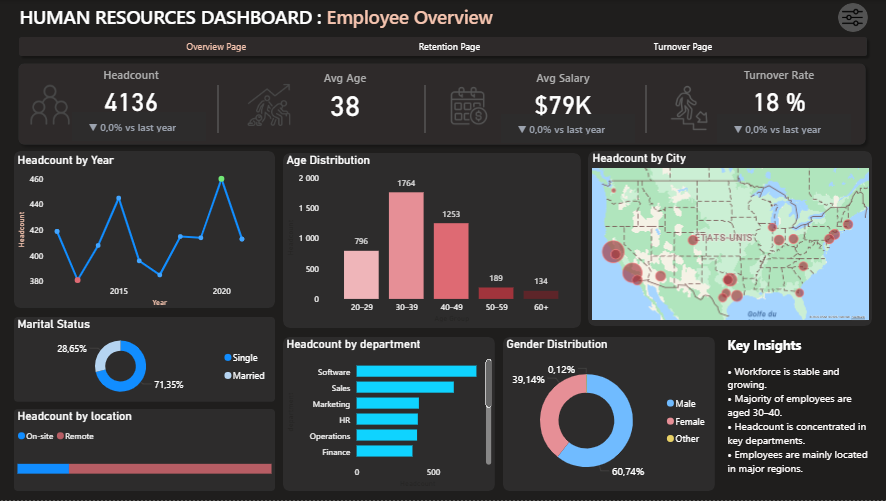

What the dashboard file says about the page in this screenshot:
{"tool":"powerbi","page":{"name":"Overview Page","canvas":[1280,720],"ordinal":0},"visuals":[{"type":"shape","box":[407.5,485.3,305.3,221.8],"z":0},{"type":"shape","box":[20.8,46.1,1235.3,41.7],"z":1000},{"type":"textbox","box":[23,0,731.5,47.5],"z":2000},{"type":"shape","box":[17.3,82.1,1238.4,135.4],"z":3000},{"type":"shape","box":[846.7,217.4,409,252],"z":4000},{"type":"azureMap","title":"Headcount by City","fields":{"Category":["LocationDim.location_city"],"Size":["_Mesures.Headcount"]},"box":[848.2,217.4,407.5,249.1],"z":5000},{"type":"clusteredBarChart","fields":{"Category":["DepartmentDim.department","JobLevelDim.job_level"],"Y":["_Mesures.Headcount"]},"box":[407.5,485.3,305.3,221.8],"z":6000},{"type":"shape","box":[20.2,217.4,375.8,226.1],"z":7000},{"type":"shape","box":[407.5,220.3,429.1,252],"z":8000},{"type":"shape","box":[20.2,456.5,375.8,122.4],"z":9000},{"type":"shape","box":[724.3,485.3,305.3,221.8],"z":10000},{"type":"lineChart","fields":{"Y":["_Mesures.Headcount"],"Category":["Dates.Year"]},"box":[20.2,220.3,375.8,226.1],"z":11000},{"type":"clusteredColumnChart","title":"Age Distribution","fields":{"Y":["_Mesures.Headcount"],"Category":["DemographicDim.Age Group"]},"box":[407.5,220.3,429.1,249.1],"z":12000},{"type":"shape","box":[20.2,589,375.8,118.1],"z":13000},{"type":"donutChart","title":"Gender Distribution","fields":{"Y":["_Mesures.Headcount"],"Category":["DemographicDim.gender"]},"box":[724.3,485.3,305.3,221.8],"z":14000},{"type":"donutChart","title":"Marital Status","fields":{"Y":["_Mesures.Headcount"],"Category":["MaritalDim.marital_status"]},"box":[20.2,456.5,375.8,122.4],"z":15000},{"type":"hundredPercentStackedBarChart","fields":{"Y":["_Mesures.Headcount"],"Series":["LocationDim.location"]},"box":[20.2,589,375.8,118.1],"z":16000},{"type":"textbox","box":[1041.9,479.3,214.3,58],"z":17000},{"type":"cardVisual","fields":{"Data":["_Mesures.Headcount Change Label"]},"box":[103.7,161.6,193,41.8],"z":18000},{"type":"advanceCardE03760C5AB684758B56AA29F9E6C257B","fields":{"mainMeasure":["_Mesures.Headcount"]},"box":[115.2,92.5,146.9,83.5],"z":19000},{"type":"shape","box":[292.3,122.4,43.2,69.1],"z":20000},{"type":"image","box":[38.9,116.6,66.2,69.1],"z":21000},{"type":"advanceCardE03760C5AB684758B56AA29F9E6C257B","fields":{"mainMeasure":["Avg(DemographicDim.Âge)"]},"box":[423.4,96.5,146.9,86.4],"z":22000},{"type":"shape","box":[590.4,122.8,43.2,69.1],"z":23000},{"type":"image","box":[354.2,116.6,66.2,69.1],"z":24000},{"type":"cardVisual","fields":{"Data":["_Mesures.Avg Salary Label"]},"box":[721.4,164.5,193,41.8],"z":25000},{"type":"advanceCardE03760C5AB684758B56AA29F9E6C257B","fields":{"mainMeasure":["Avg(PeopleFact.people employment (2).salary)"]},"box":[737.3,96.8,146.9,86.4],"z":26000},{"type":"shape","box":[908.6,122.4,43.2,69.1],"z":27000},{"type":"image","box":[637.9,113.8,74.9,77.8],"z":28000},{"type":"cardVisual","fields":{"Data":["_Mesures.Turnover Label"]},"box":[1032.5,164.5,193,41.8],"z":29000},{"type":"advanceCardE03760C5AB684758B56AA29F9E6C257B","fields":{"mainMeasure":["_Mesures.Turnover"]},"box":[1048.3,92.5,146.9,83.5],"z":30000},{"type":"image","box":[949,118.1,87.8,74.9],"z":31000},{"type":"shape","box":[1206.7,4.3,43.2,41.8],"z":32000},{"type":"image","box":[1212.5,8.6,30.2,33.1],"z":33000},{"type":"pageNavigator","box":[148.8,50.6,1000.2,31.3],"z":34500},{"type":"group","id":"g1","title":"Filter Panel","box":[609.8,0.9,666.7,404.6],"z":34750},{"type":"textbox","box":[1041.9,518,214.3,189],"z":35000}]}

Visuals, with their boxes in screenshot pixels (x1, y1, x2, y2), scaled from the page's 1280x720 canvas onto the 886x501 screenshot:
shape: Rect(282, 338, 493, 492)
shape: Rect(14, 32, 869, 61)
textbox: Rect(16, 0, 522, 33)
shape: Rect(12, 57, 869, 151)
shape: Rect(586, 151, 869, 327)
"Headcount by City" azureMap: Rect(587, 151, 869, 325)
clusteredBarChart - DepartmentDim.department x JobLevelDim.job_level: Rect(282, 338, 493, 492)
shape: Rect(14, 151, 274, 309)
shape: Rect(282, 153, 579, 329)
shape: Rect(14, 318, 274, 403)
shape: Rect(501, 338, 713, 492)
lineChart - _Mesures.Headcount x Dates.Year: Rect(14, 153, 274, 311)
"Age Distribution" clusteredColumnChart: Rect(282, 153, 579, 327)
shape: Rect(14, 410, 274, 492)
"Gender Distribution" donutChart: Rect(501, 338, 713, 492)
"Marital Status" donutChart: Rect(14, 318, 274, 403)
hundredPercentStackedBarChart - _Mesures.Headcount x LocationDim.location: Rect(14, 410, 274, 492)
textbox: Rect(721, 334, 870, 374)
cardVisual - _Mesures.Headcount Change Label: Rect(72, 112, 205, 142)
advanceCardE03760C5AB684758B56AA29F9E6C257B - _Mesures.Headcount: Rect(80, 64, 181, 122)
shape: Rect(202, 85, 232, 133)
image: Rect(27, 81, 73, 129)
advanceCardE03760C5AB684758B56AA29F9E6C257B - Avg(DemographicDim.Âge): Rect(293, 67, 395, 127)
shape: Rect(409, 85, 439, 134)
image: Rect(245, 81, 291, 129)
cardVisual - _Mesures.Avg Salary Label: Rect(499, 114, 633, 144)
advanceCardE03760C5AB684758B56AA29F9E6C257B - Avg(PeopleFact.people employment (2).salary): Rect(510, 67, 612, 127)
shape: Rect(629, 85, 659, 133)
image: Rect(442, 79, 493, 133)
cardVisual - _Mesures.Turnover Label: Rect(715, 114, 848, 144)
advanceCardE03760C5AB684758B56AA29F9E6C257B - _Mesures.Turnover: Rect(726, 64, 827, 122)
image: Rect(657, 82, 718, 134)
shape: Rect(835, 3, 865, 32)
image: Rect(839, 6, 860, 29)
pageNavigator: Rect(103, 35, 795, 57)
"Filter Panel" group: Rect(422, 1, 884, 282)
textbox: Rect(721, 360, 870, 492)
